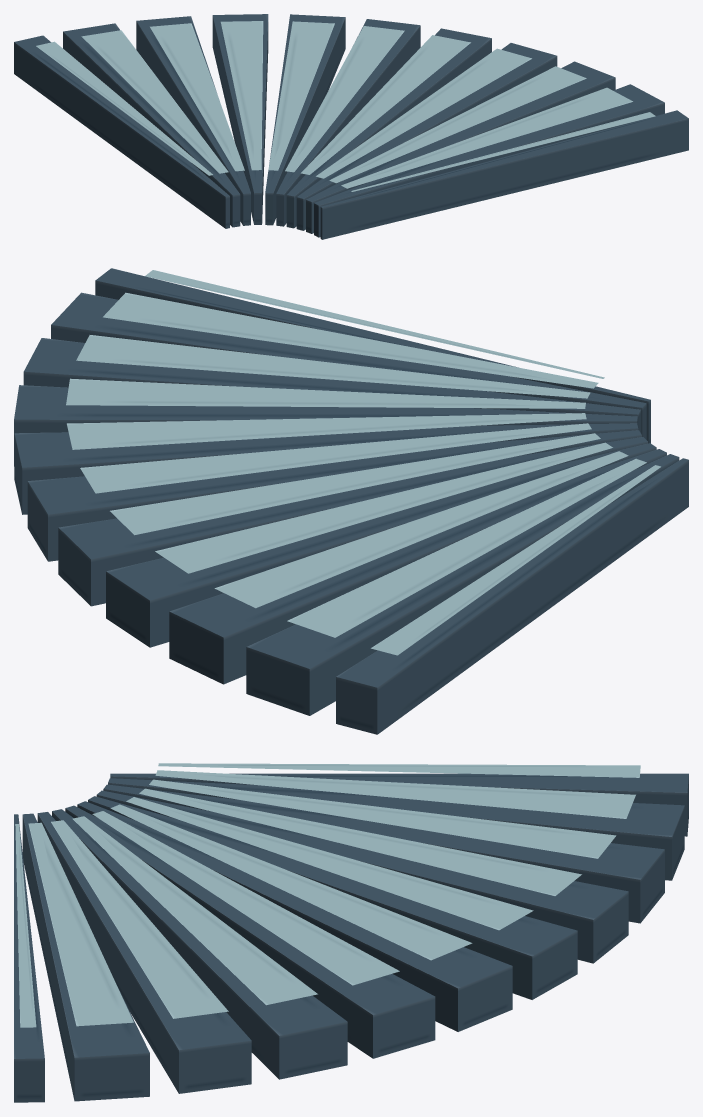
Rendered from sc_tread_curve_left_17.obj.
The picture shows the model from 3 angles, top to bottom: view 1: azimuth 30°, elevation 25°; view 2: azimuth 150°, elevation 25°; view 3: azimuth 270°, elevation 25°; orthographic projection. The views are drawn at different scales.
Bounding box in the file's own units: 17.5 × 1.56 × 17.5.
Materials: 1 (1 with a texture image).
